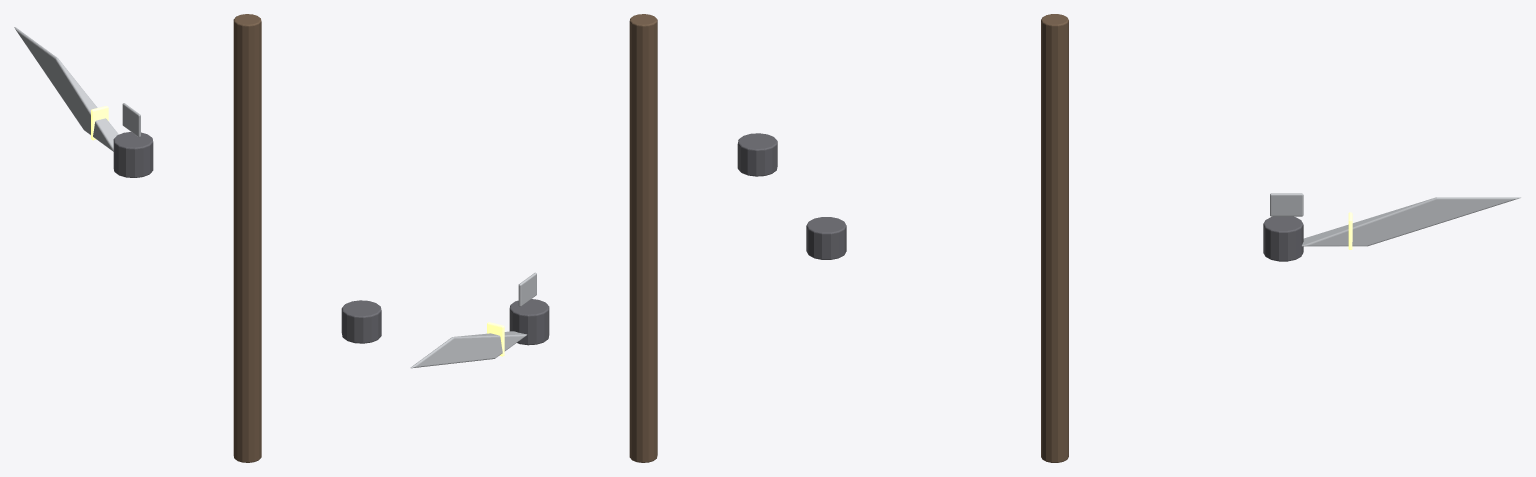
Rendered from axe.glb.
3 renders of one model, left to right at view 1: azimuth 30°, elevation 25°; view 2: azimuth 150°, elevation 25°; view 3: azimuth 270°, elevation 25°, orthographic.
Visible parts, largest first — view 1: leviathan_axe; view 2: leviathan_axe; view 3: leviathan_axe.
Part boxes in pixels (x1=…): leviathan_axe: x1=14, y1=14, x2=381, y2=462; leviathan_axe: x1=410, y1=14, x2=777, y2=462; leviathan_axe: x1=806, y1=14, x2=1521, y2=462.
Bounding box in the file's own units: 0.0585 × 0.72 × 1.06.
